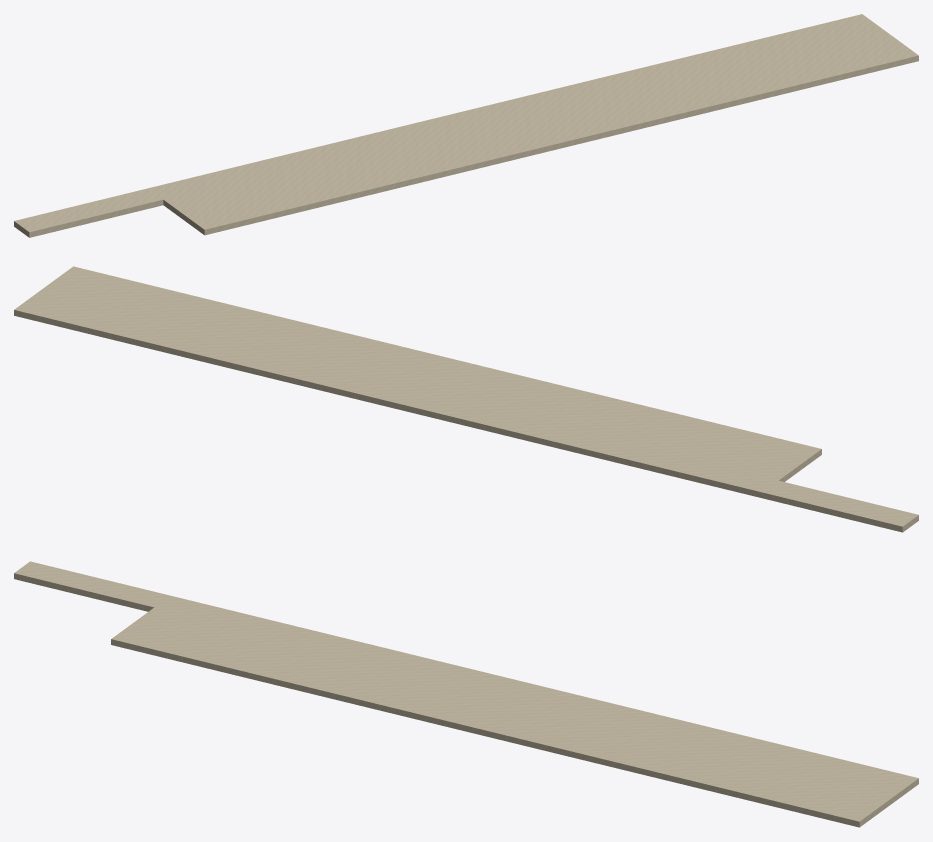
The model's file is LINK_D09_SF69__floor.glb.
3 renders of one model, top to bottom at view 1: azimuth 30°, elevation 25°; view 2: azimuth 150°, elevation 25°; view 3: azimuth 330°, elevation 25°, orthographic. The views are drawn at different scales.
Visible parts, largest first — view 1: LINK_D09_SF69__floor__warm_stone; view 2: LINK_D09_SF69__floor__warm_stone; view 3: LINK_D09_SF69__floor__warm_stone.
Boxes of the visible parts, x1,y1,x2,y2 form: LINK_D09_SF69__floor__warm_stone: (14,14,918,237); LINK_D09_SF69__floor__warm_stone: (14,266,918,532); LINK_D09_SF69__floor__warm_stone: (14,561,918,827).
Size of the model in its own units: 38 by 0.24 by 4.4.
Materials: 1 (1 with a texture image).
